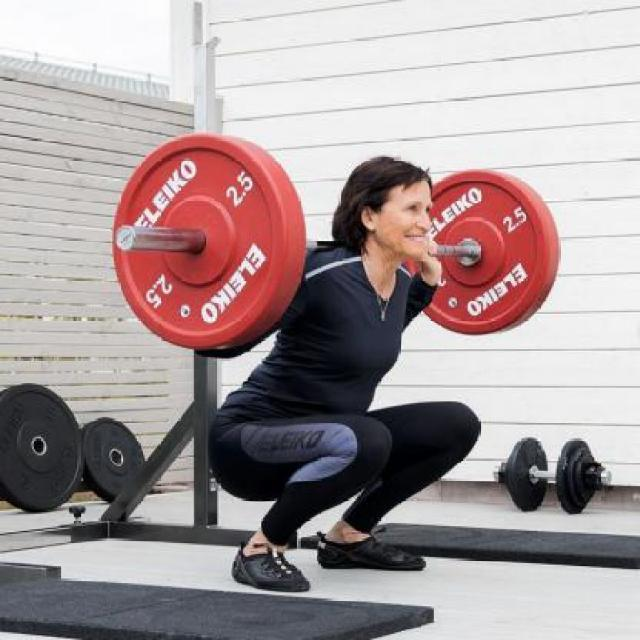Barbell: (112, 224, 140, 253)
